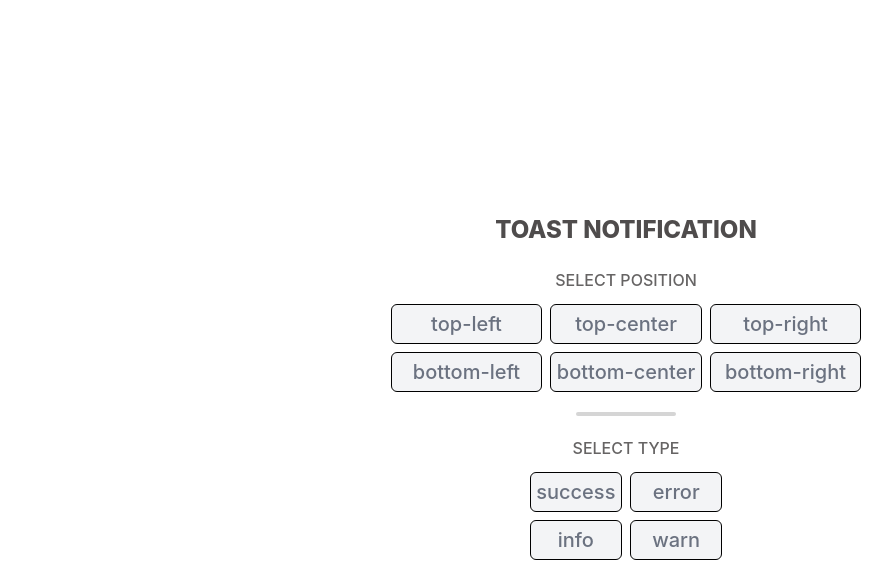
Test: toast file test case › error message
Click the button "top-left" at [467, 324], box [391,304,542,344]
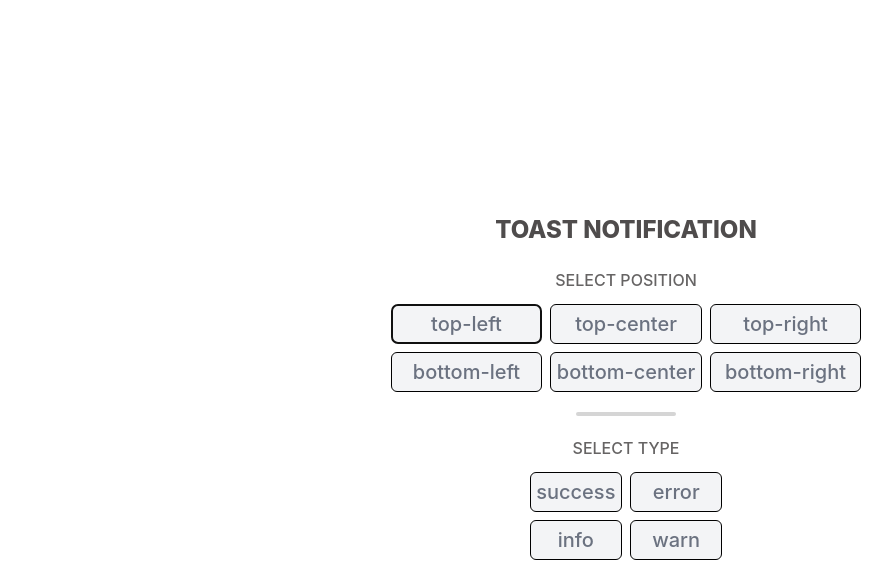
Click the button "error" at [676, 492], box [630,472,722,512]
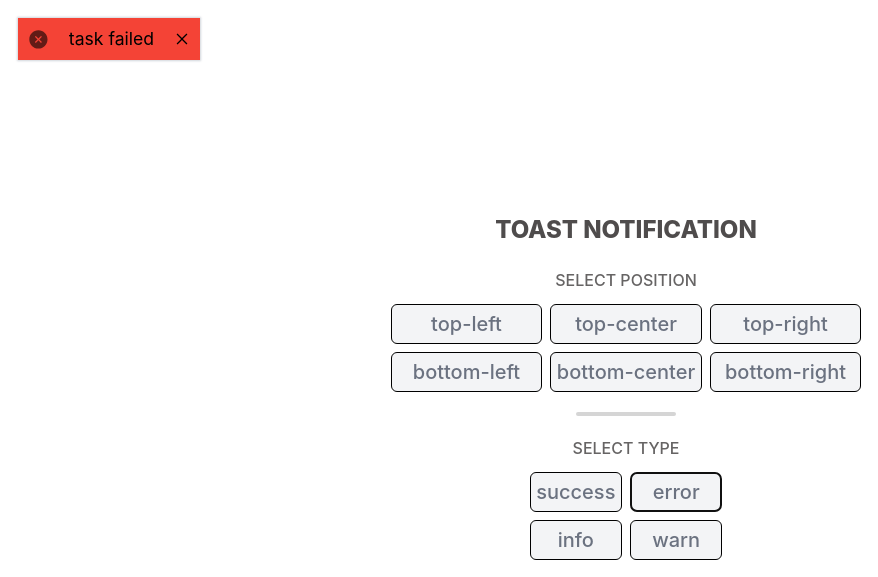
Check: the text "task failed" is shown, box [69,26,154,52]
